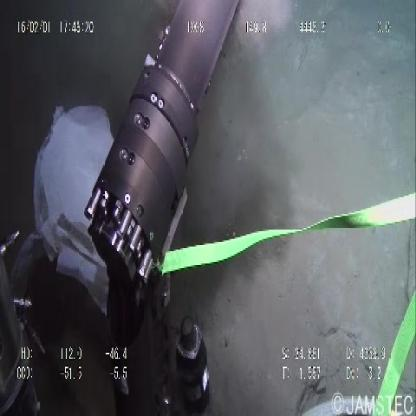Rov: (82, 1, 244, 412)
Rác: (30, 100, 118, 322)
